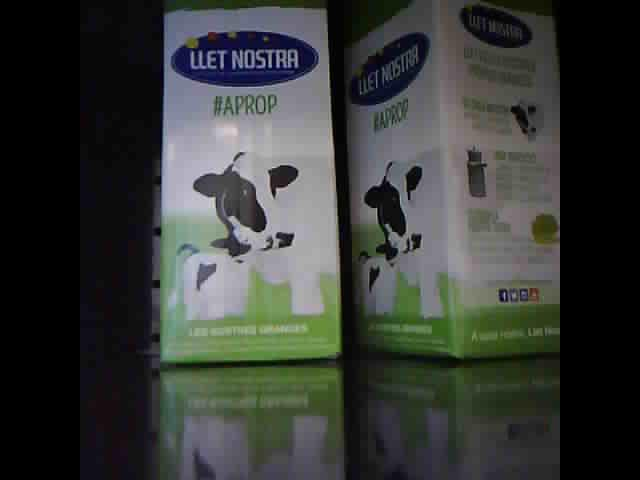leche: (344, 3, 557, 358), (158, 4, 338, 365)
